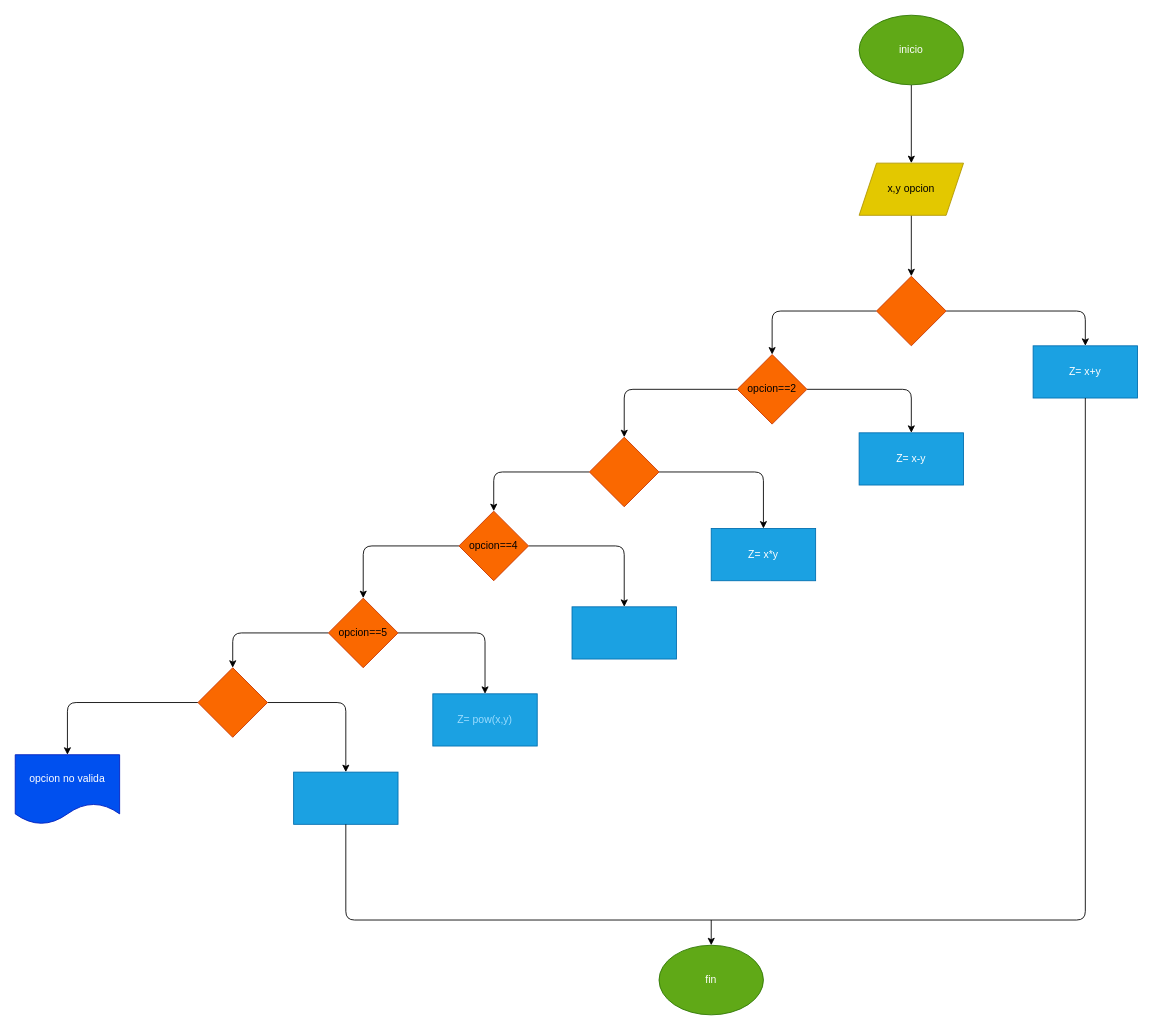
The diagram is 1153 pixels wide and 1030 high, and some of its shapes have lost their labels. Here are the shapes that lost their labels. From the top down, the centre of each, then its label:
the point at 911,310: opcion==1
the point at 624,471: opcion==3
the point at 623,632: Z= x/y
the point at 232,702: opcion==6
the point at 345,797: Z= log(x)
